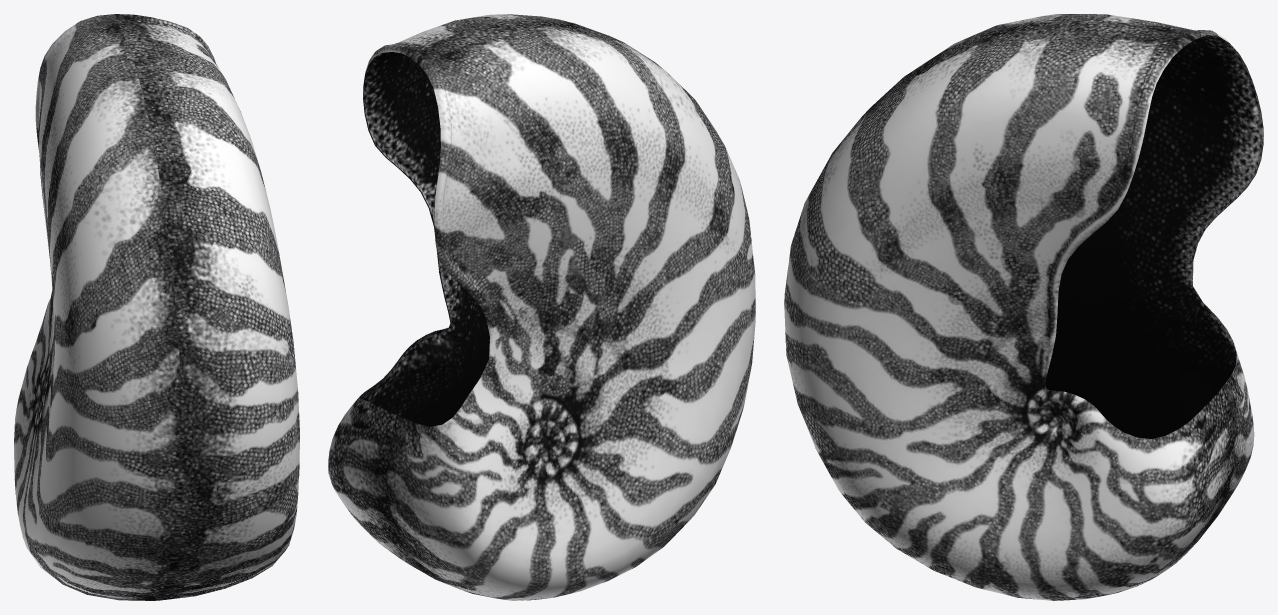
File: drop04_kominjeong.glb
3 renders of one model, left to right at view 1: azimuth 30°, elevation 25°; view 2: azimuth 150°, elevation 25°; view 3: azimuth 270°, elevation 25°, orthographic. The views are drawn at different scales.
Parts seen in each view (by area): view 1: KominJeong_Shell02_LinearSpin; view 2: KominJeong_Shell02_LinearSpin; view 3: KominJeong_Shell02_LinearSpin.
Boxes of the visible parts, left/top/right/bottom form: KominJeong_Shell02_LinearSpin: left=14, top=14, right=299, bottom=600; KominJeong_Shell02_LinearSpin: left=328, top=14, right=755, bottom=600; KominJeong_Shell02_LinearSpin: left=784, top=14, right=1263, bottom=600.
Size of the model in its own units: 0.1229 by 0.2227 by 0.1743.
Materials: 1 (1 with a texture image).
